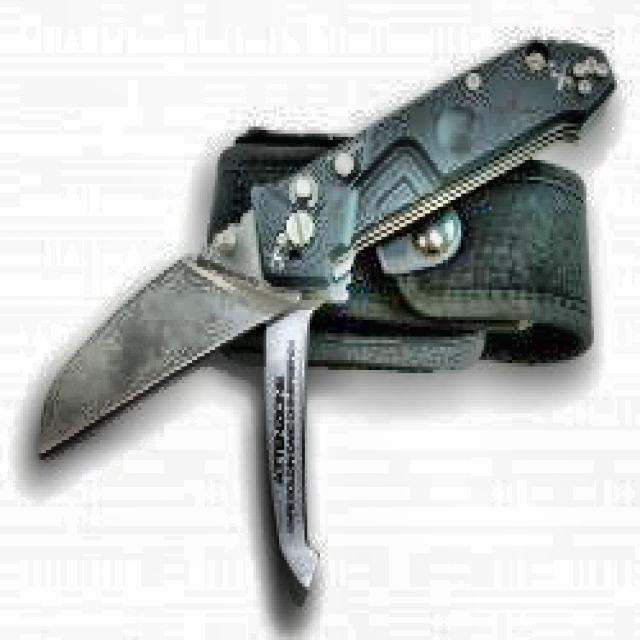knife: (39, 39, 618, 462)
